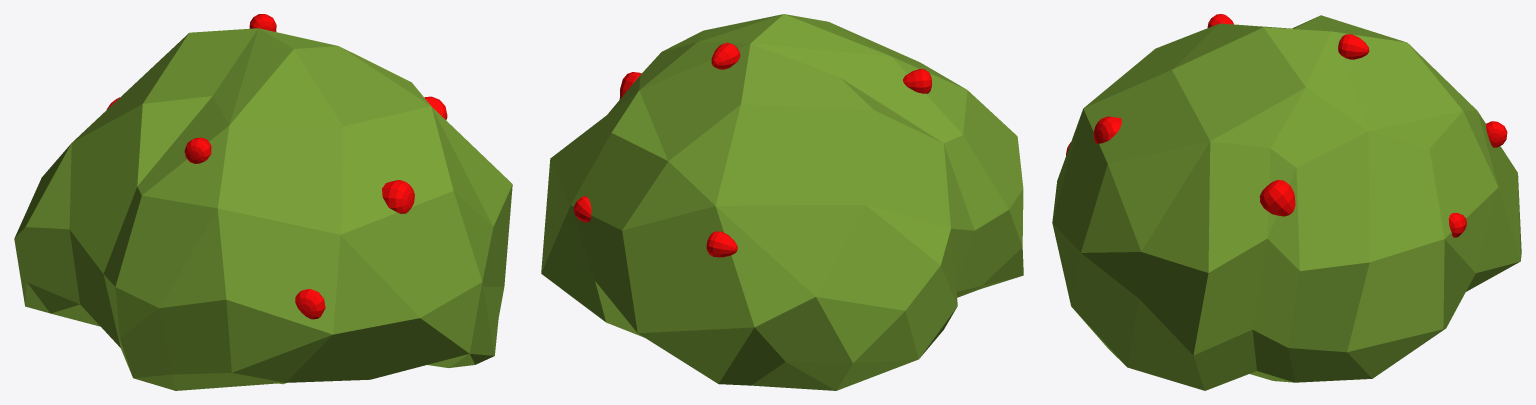
Rendered from strawberry_bush.glb.
The picture shows the model from 3 angles, left to right: view 1: azimuth 30°, elevation 25°; view 2: azimuth 150°, elevation 25°; view 3: azimuth 270°, elevation 25°; orthographic projection. The views are drawn at different scales.
Parts seen in each view (by area): view 1: strawberry_bush; view 2: strawberry_bush; view 3: strawberry_bush.
Boxes of the visible parts, <box> form: strawberry_bush: <box>14,14,512,390</box>; strawberry_bush: <box>541,14,1023,390</box>; strawberry_bush: <box>1052,14,1521,390</box>.
Size of the model in its own units: 6.2 by 4.4 by 6.29.
1 material, 1 textured.
